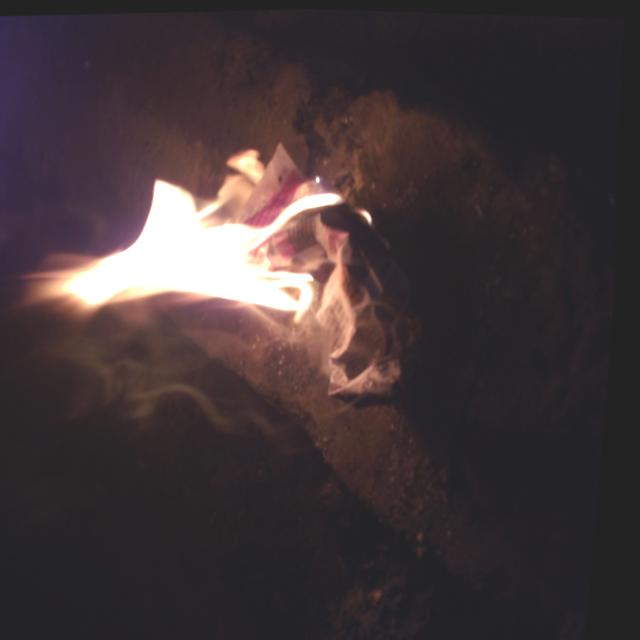helmet: (14, 131, 383, 340)
